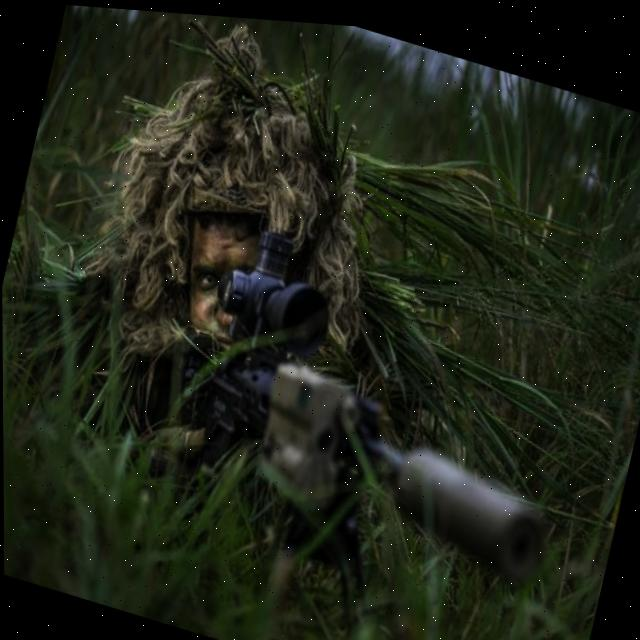firearm: (132, 200, 595, 619)
